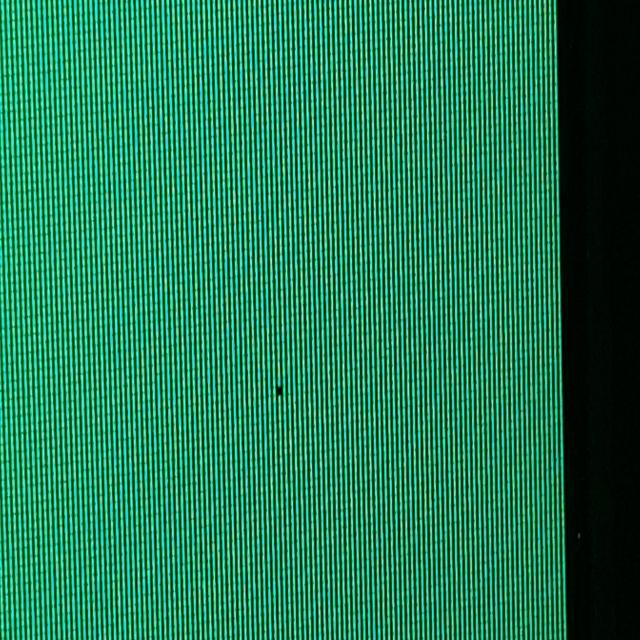Dead pixel: (276, 385, 283, 397)
